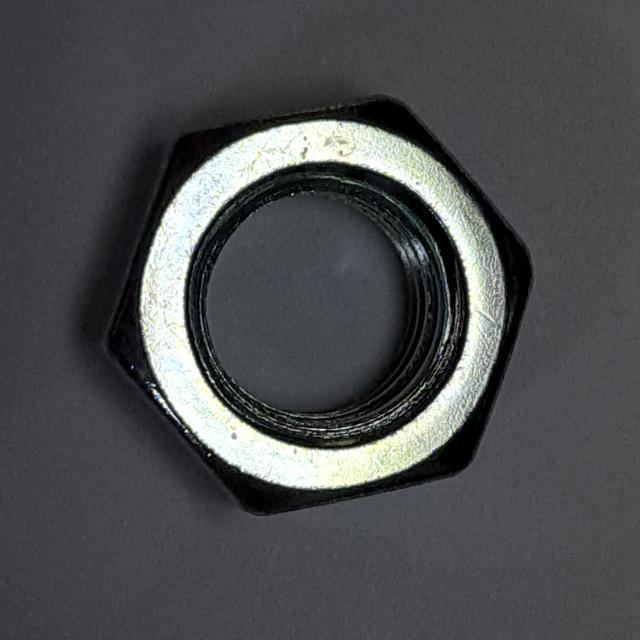Excellent: (89, 87, 547, 527)
